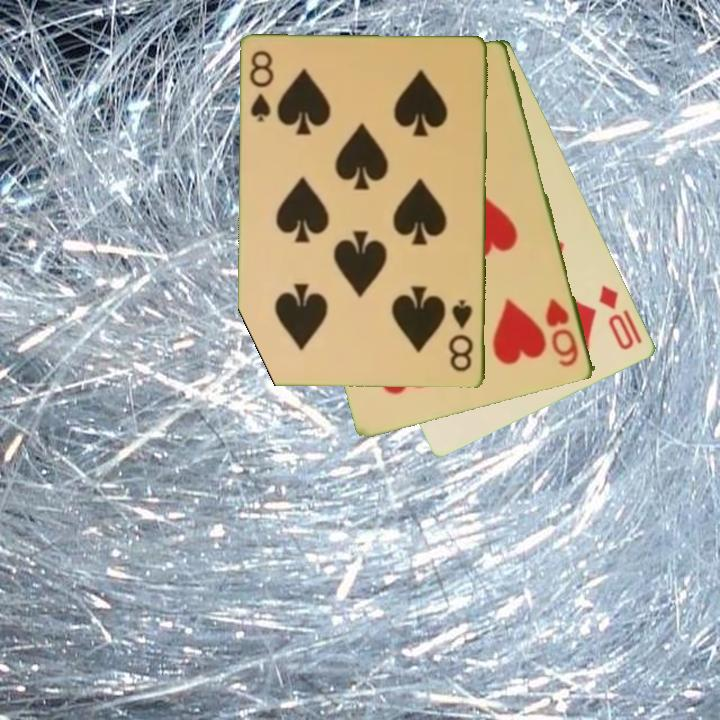10d: (596, 281, 638, 354)
6h: (542, 295, 582, 371)
8s: (246, 48, 277, 126), (447, 297, 477, 375)
